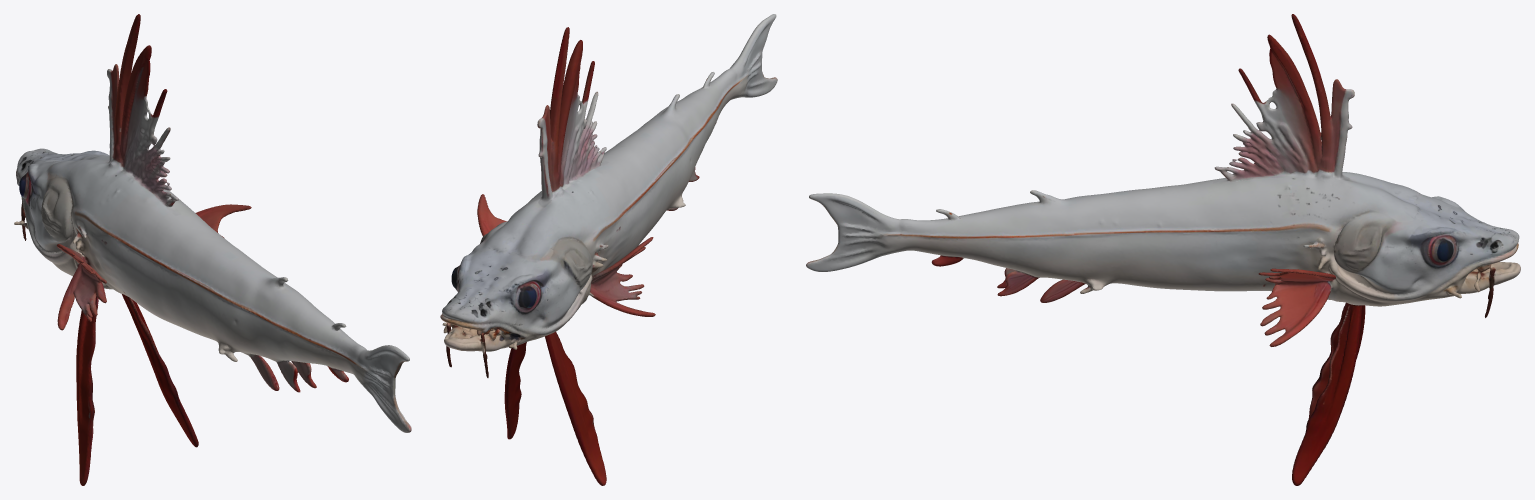
File: oarY_3.glb
The picture shows the model from 3 angles, left to right: view 1: azimuth 30°, elevation 25°; view 2: azimuth 150°, elevation 25°; view 3: azimuth 270°, elevation 25°; orthographic projection. The views are drawn at different scales.
Visible parts, largest first — view 1: tripo_node_a39edcb3-f4c3-49f6-b164-a82ab14846ec; view 2: tripo_node_a39edcb3-f4c3-49f6-b164-a82ab14846ec; view 3: tripo_node_a39edcb3-f4c3-49f6-b164-a82ab14846ec.
Boxes of the visible parts, x1,y1,x2,y2 form: tripo_node_a39edcb3-f4c3-49f6-b164-a82ab14846ec: [14, 14, 411, 485]; tripo_node_a39edcb3-f4c3-49f6-b164-a82ab14846ec: [440, 14, 777, 485]; tripo_node_a39edcb3-f4c3-49f6-b164-a82ab14846ec: [806, 14, 1520, 485].
Size of the model in its own units: 0.2998 by 0.712 by 1.
1 material, 1 textured.
